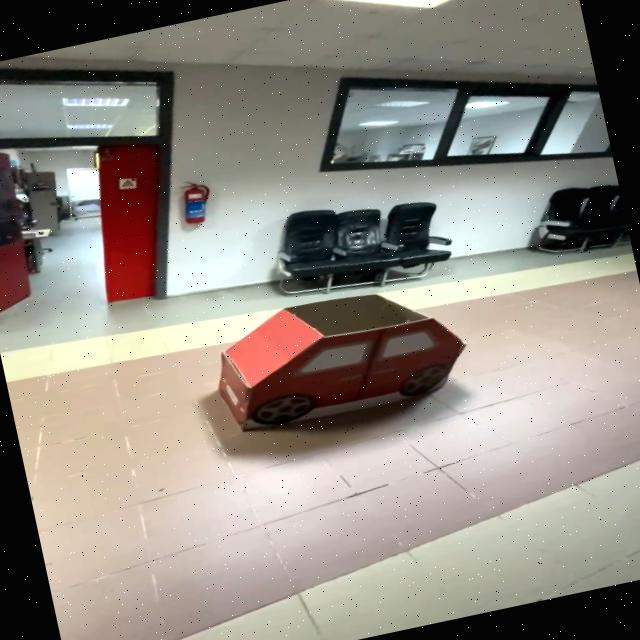red_car: (181, 252, 500, 447)
